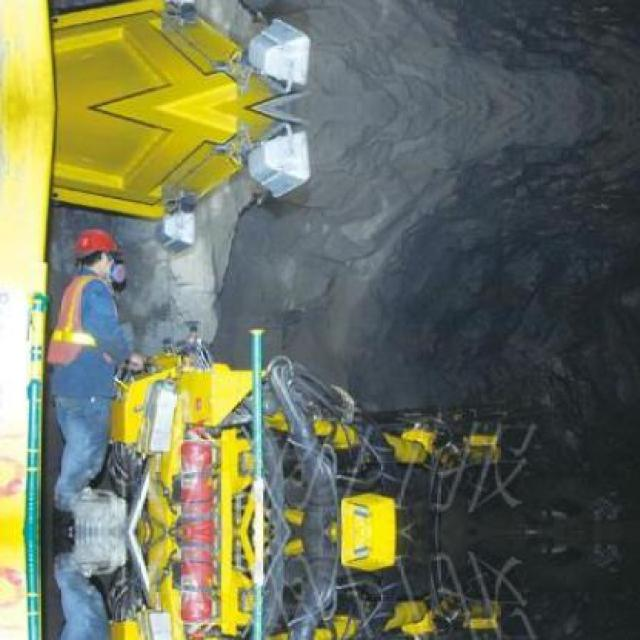helmet: (71, 226, 117, 275)
